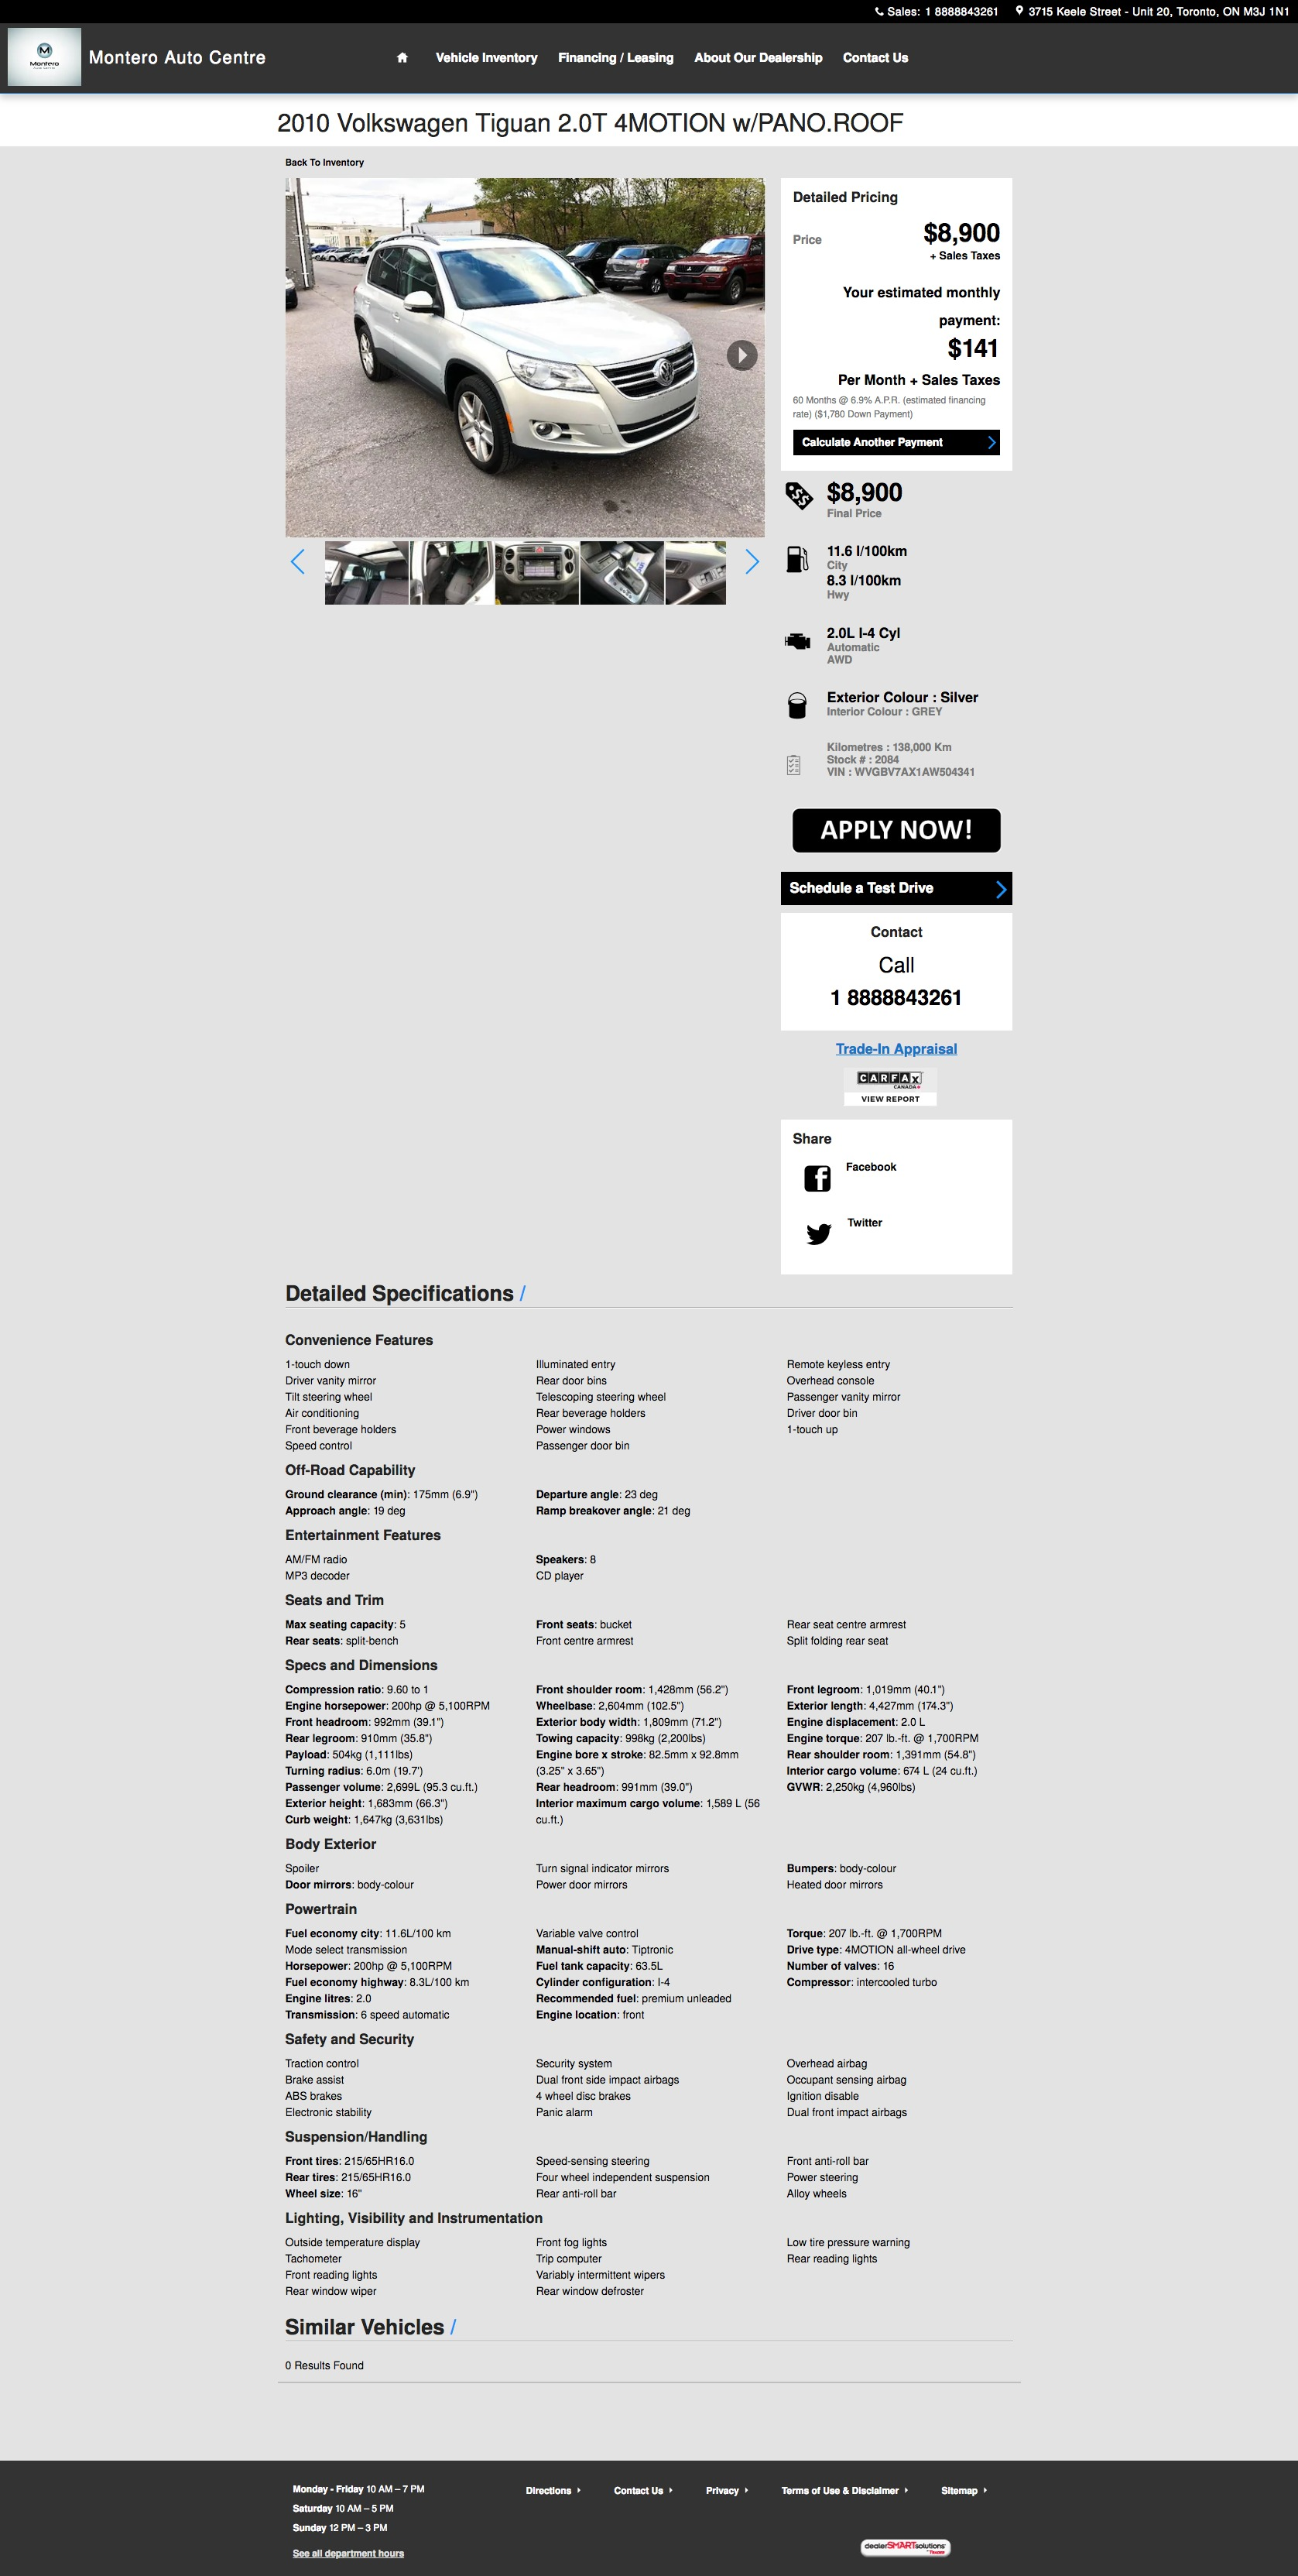car: (743, 550, 762, 574)
